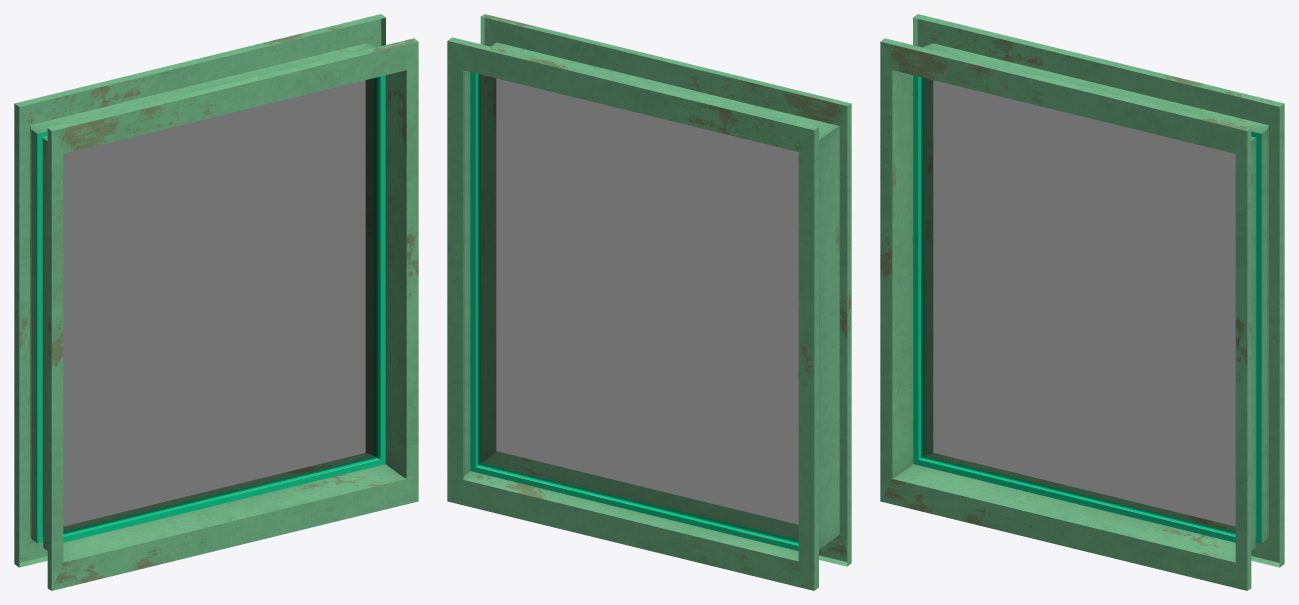
The model's file is window.glb.
The picture shows the model from 3 angles, left to right: view 1: azimuth 30°, elevation 25°; view 2: azimuth 150°, elevation 25°; view 3: azimuth 330°, elevation 25°; orthographic projection.
Parts seen in each view (by area): view 1: Object043_Material #14 Slot #4_0, Object043_Material #14 Slot #1_0, Object043_Material #14 Slot #2_0, Object043_Material #14 Slot #3_0; view 2: Object043_Material #14 Slot #4_0, Object043_Material #14 Slot #2_0, Object043_Material #14 Slot #1_0, Object043_Material #14 Slot #3_0; view 3: Object043_Material #14 Slot #4_0, Object043_Material #14 Slot #1_0, Object043_Material #14 Slot #2_0, Object043_Material #14 Slot #3_0.
Boxes of the visible parts, x1=… form: Object043_Material #14 Slot #4_0: x1=63, y1=77, x2=377, y2=534; Object043_Material #14 Slot #1_0: x1=43, y1=38, x2=418, y2=590; Object043_Material #14 Slot #2_0: x1=14, y1=14, x2=385, y2=567; Object043_Material #14 Slot #3_0: x1=37, y1=75, x2=385, y2=543; Object043_Material #14 Slot #4_0: x1=478, y1=74, x2=798, y2=542; Object043_Material #14 Slot #2_0: x1=447, y1=37, x2=818, y2=590; Object043_Material #14 Slot #1_0: x1=480, y1=14, x2=851, y2=566; Object043_Material #14 Slot #3_0: x1=470, y1=72, x2=798, y2=550; Object043_Material #14 Slot #4_0: x1=921, y1=77, x2=1235, y2=534; Object043_Material #14 Slot #1_0: x1=880, y1=38, x2=1255, y2=590; Object043_Material #14 Slot #2_0: x1=913, y1=14, x2=1284, y2=567; Object043_Material #14 Slot #3_0: x1=913, y1=75, x2=1261, y2=543.
Size of the model in its own units: 150 by 180 by 26.4.
Materials: 4 (3 with a texture image).
